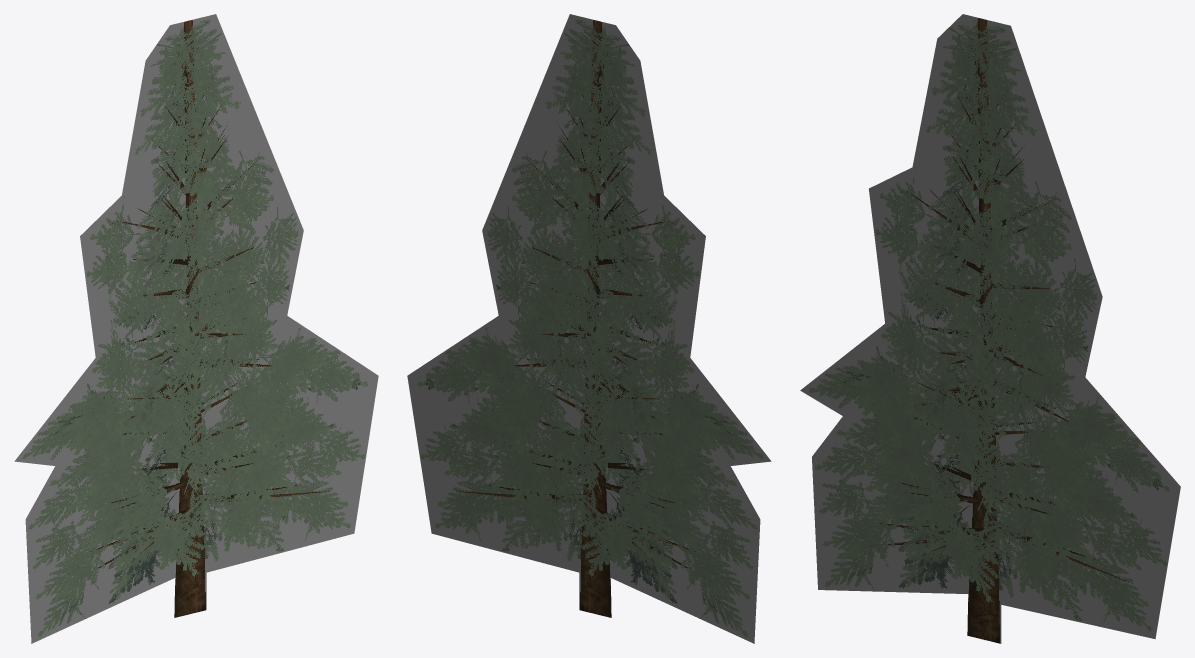
File: Spruce_LOD3_v01.fbx
3 renders of one model, left to right at view 1: azimuth 30°, elevation 25°; view 2: azimuth 150°, elevation 25°; view 3: azimuth 330°, elevation 25°, orthographic. The views are drawn at different scales.
Parts seen in each view (by area): view 1: Plane; view 2: Plane; view 3: Plane.
Boxes of the visible parts, x1=… form: Plane: x1=14, y1=14, x2=378, y2=643; Plane: x1=407, y1=14, x2=771, y2=643; Plane: x1=800, y1=14, x2=1180, y2=643.
Size of the model in its own units: 616 by 960 by 4.2e-05.
